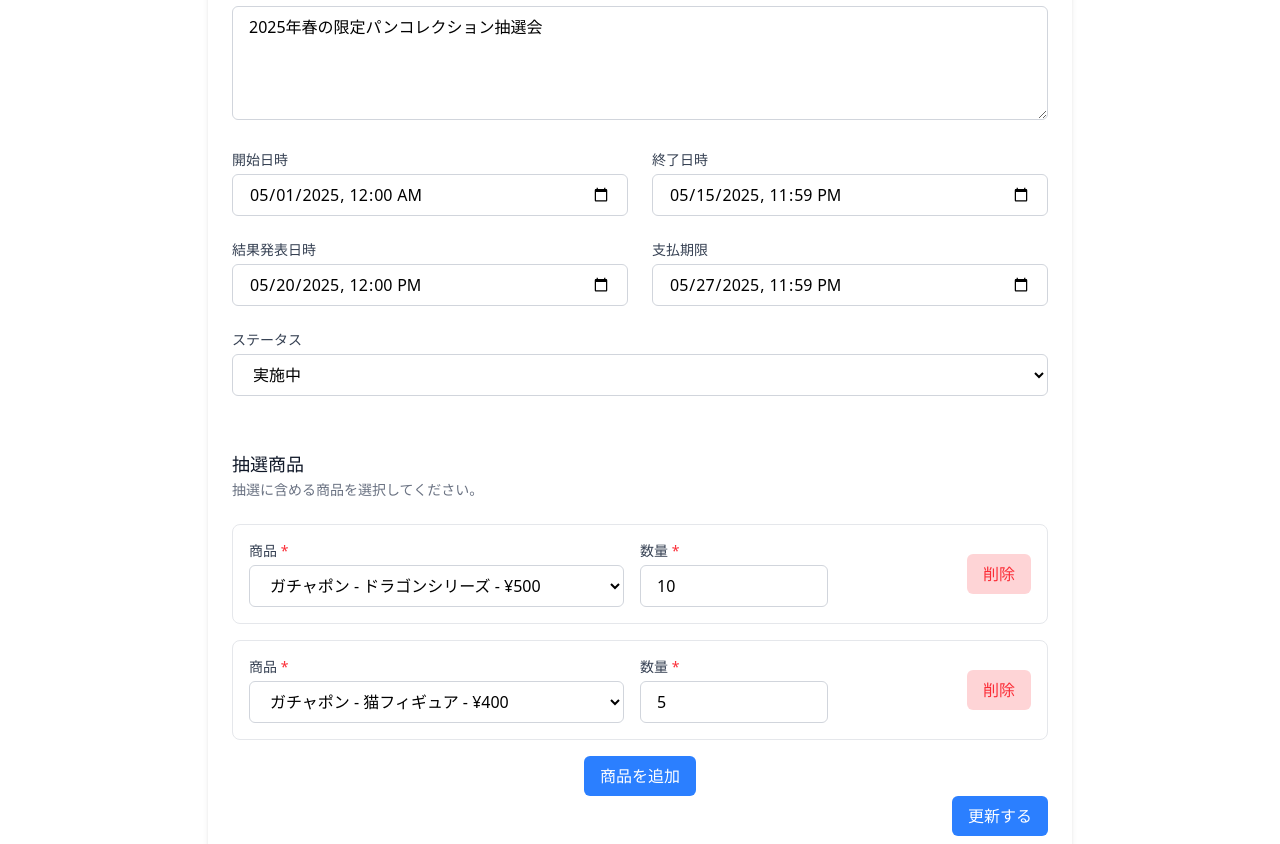
Test: 抽選イベント編集ページ › handleSubmit機能 › API更新に失敗した場合、エラーメッセージが表示されること
This screenshot has width=1280, height=844.
(page scrolled)
Click the button "更新する".
click(1000, 816)  # box [952,796,1048,836]
(page scrolled)
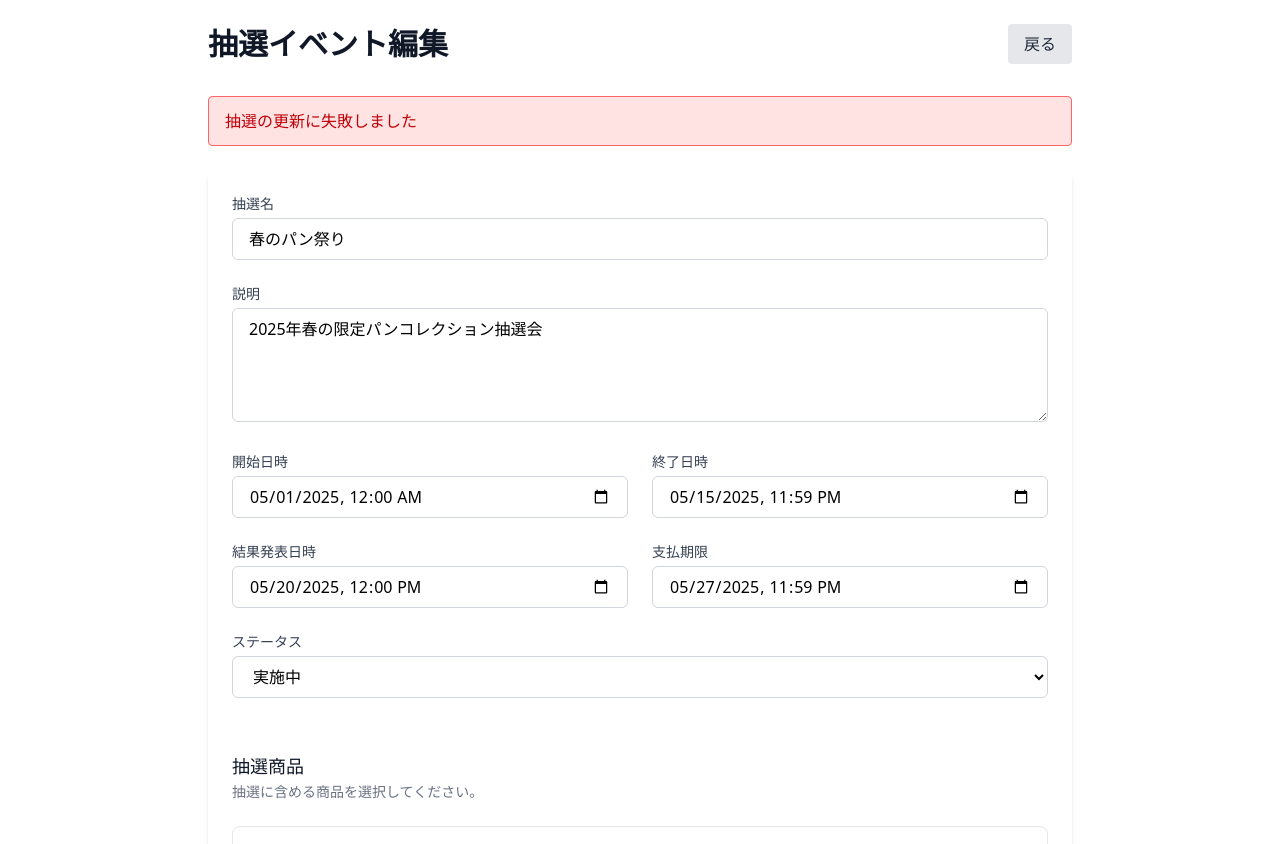
Result: the text "抽選の更新に失敗しました" is shown at [225,110,417,132]
